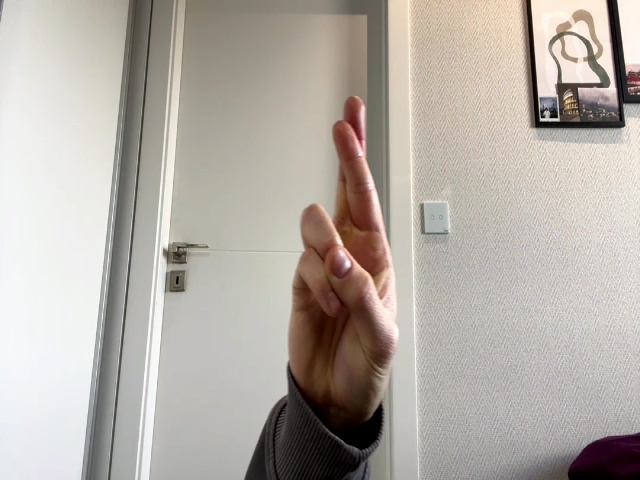R: (289, 96, 399, 410)
